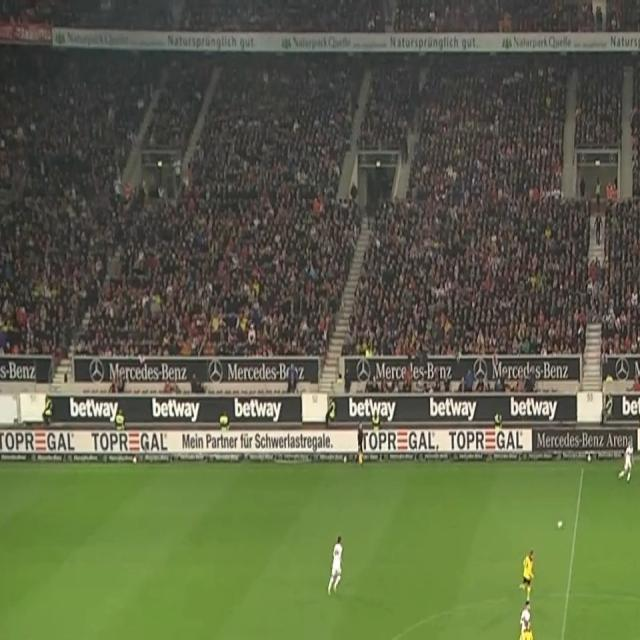ball: (556, 518, 564, 530)
